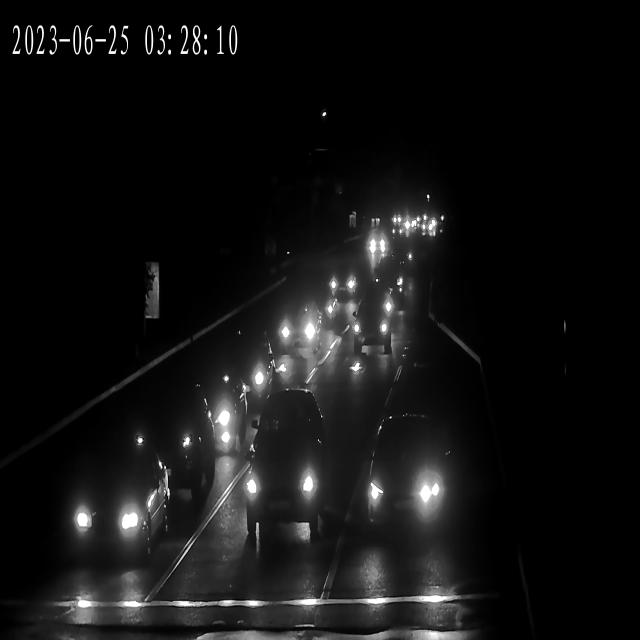Car: (71, 426, 167, 575), (245, 392, 326, 547), (132, 393, 216, 513), (370, 409, 450, 532), (195, 364, 250, 455), (230, 330, 274, 402), (277, 286, 323, 354), (353, 290, 392, 358), (375, 251, 406, 310), (305, 279, 339, 331), (331, 260, 356, 298), (366, 224, 388, 263), (422, 217, 439, 239), (408, 218, 419, 234), (393, 208, 403, 222), (394, 234, 403, 246)
